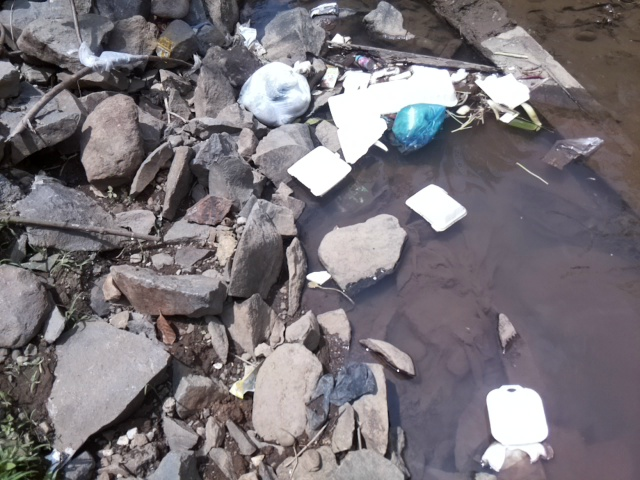Sampah_Botol_Plastik: (349, 54, 377, 70)
Sampah_Plastik: (240, 63, 315, 129), (390, 100, 450, 155), (541, 134, 606, 171)
Sampah_Styrofoam: (318, 69, 465, 111), (329, 69, 390, 161), (482, 382, 554, 459), (287, 144, 353, 200), (407, 180, 471, 235), (476, 72, 533, 112)
